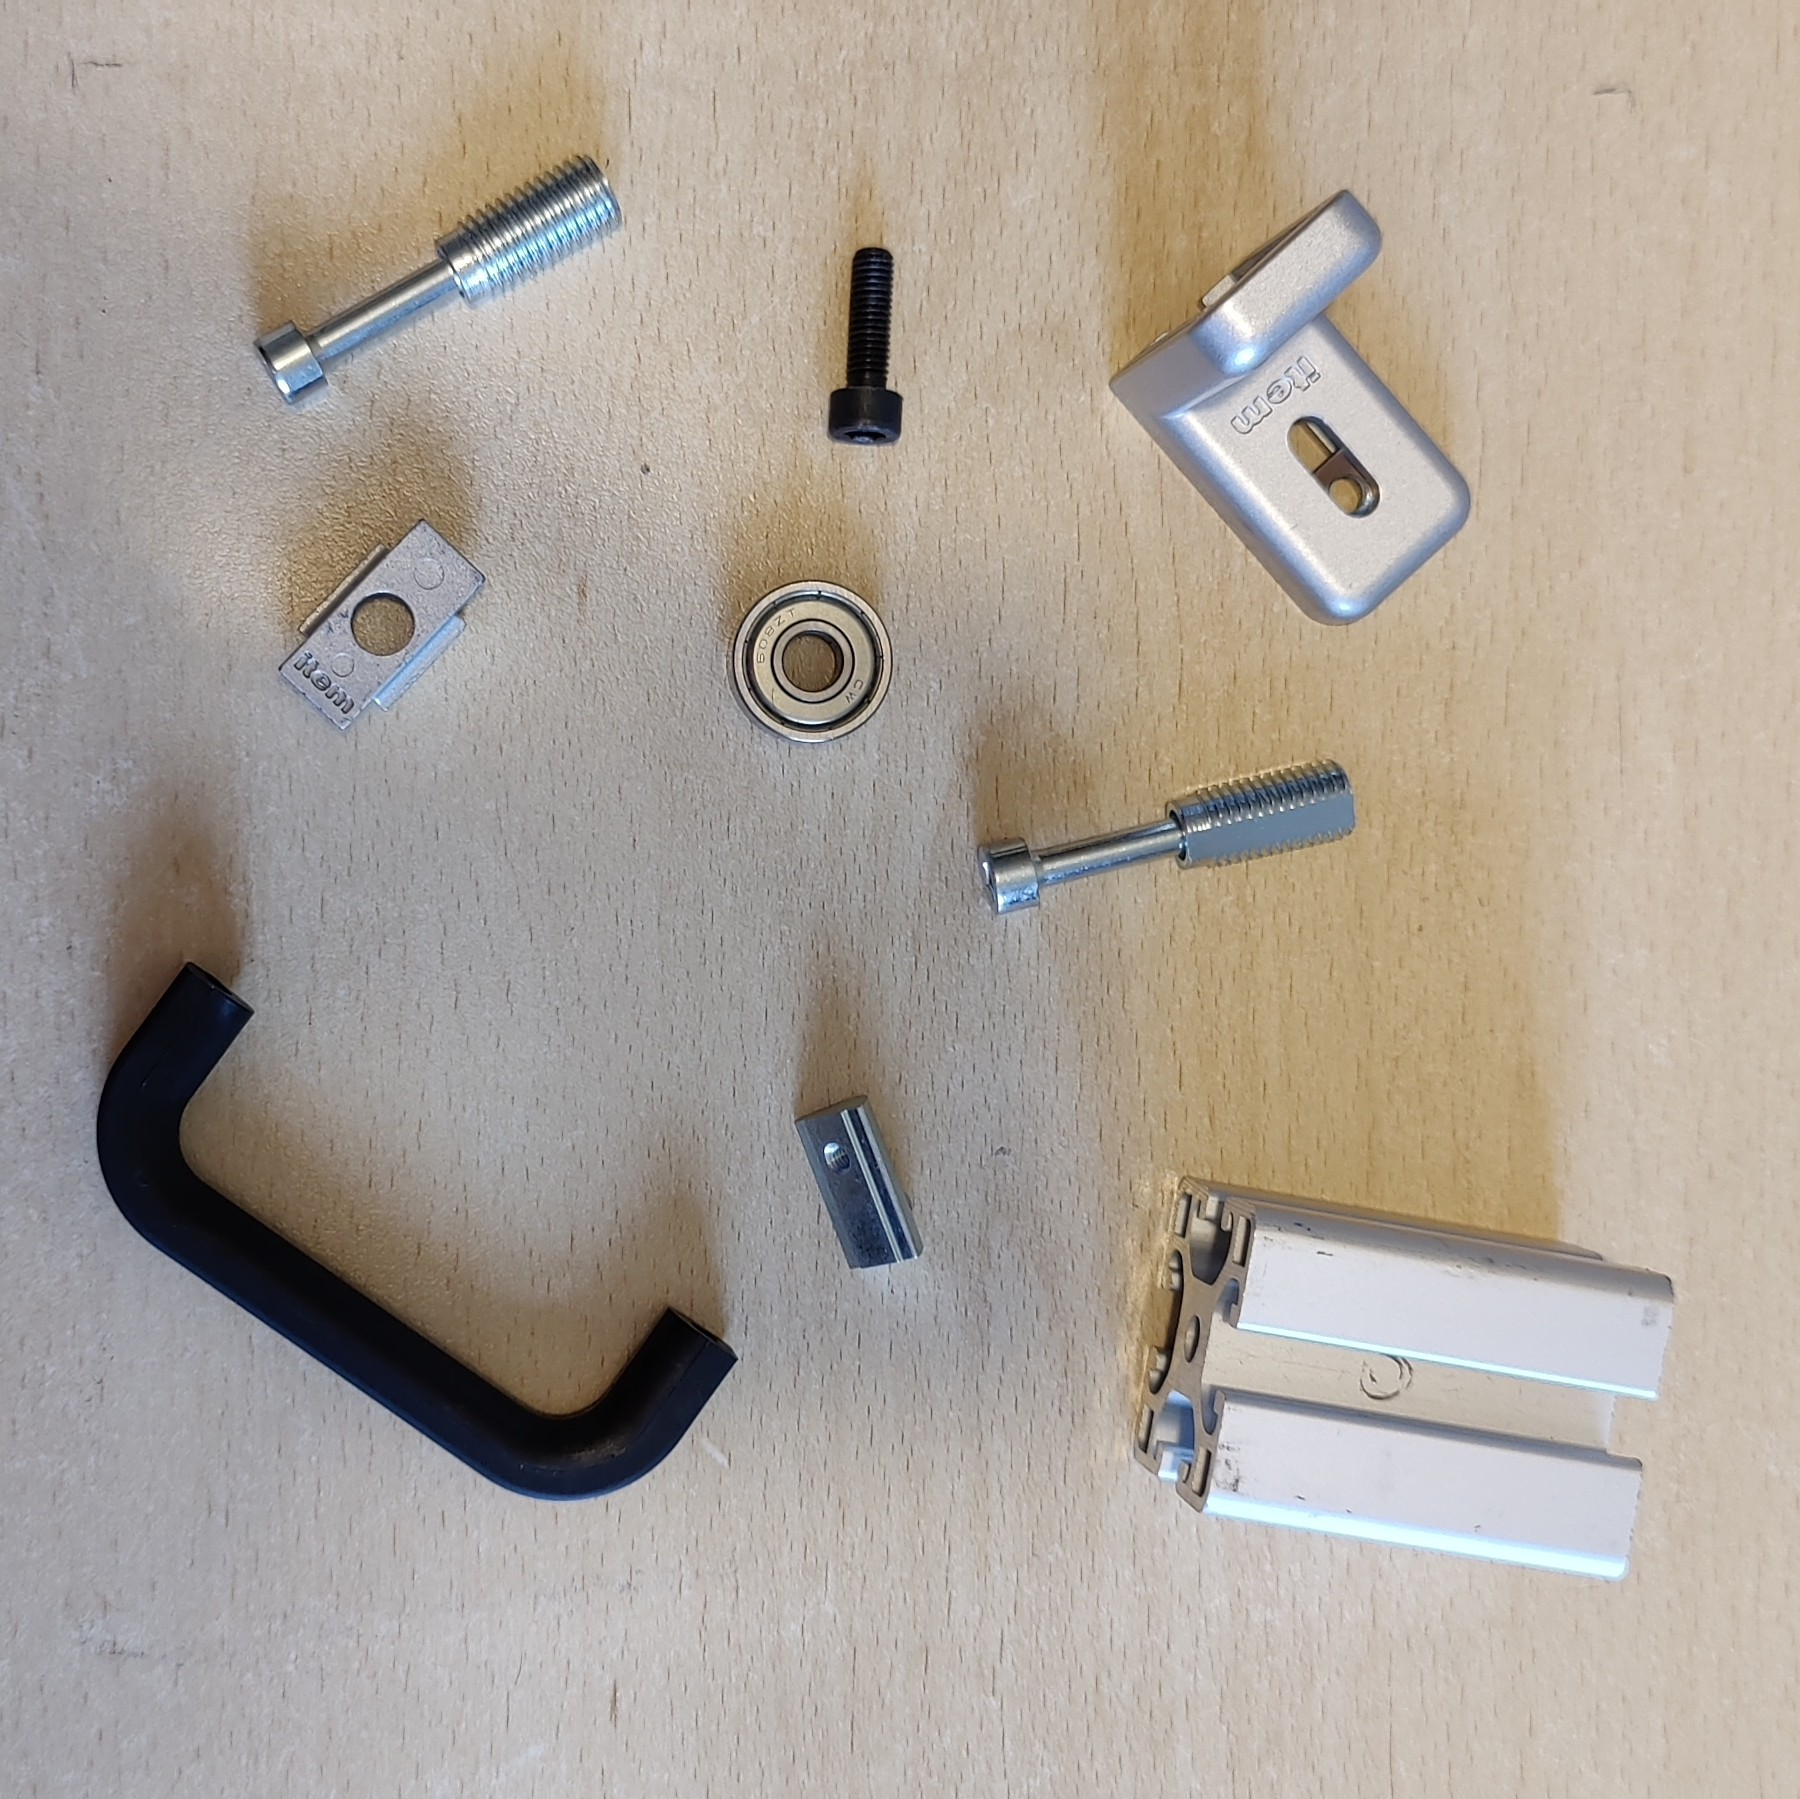Aluminium Extension: (1125, 1171, 1678, 1586)
Ball Bearing: (723, 577, 894, 750)
Multiwinkel: (1105, 183, 1472, 631)
Pull Handle: (92, 952, 743, 1502)
Shoulder Socket Head Cap Screw: (247, 148, 627, 410), (973, 750, 1360, 918)
Socket Head Cap Screw: (823, 244, 909, 451)
T Nut Square: (275, 514, 489, 738)
T Spring Nut: (792, 1087, 927, 1275)
